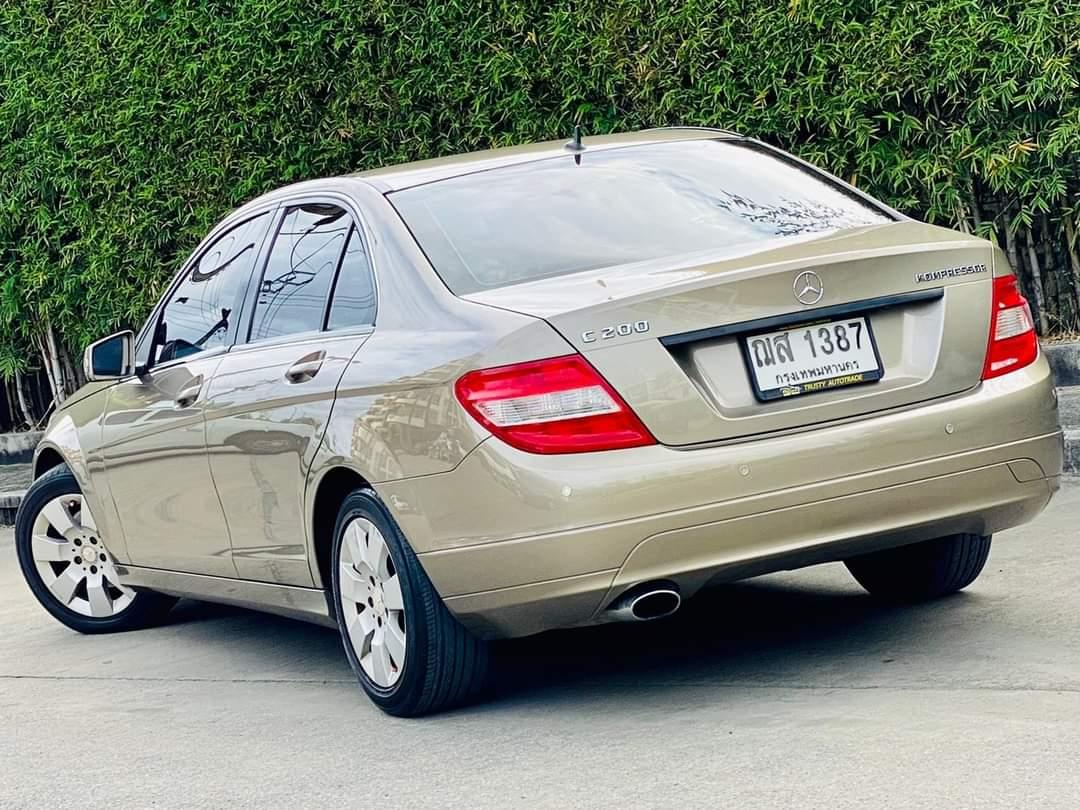license-plate: (735, 307, 887, 408)
